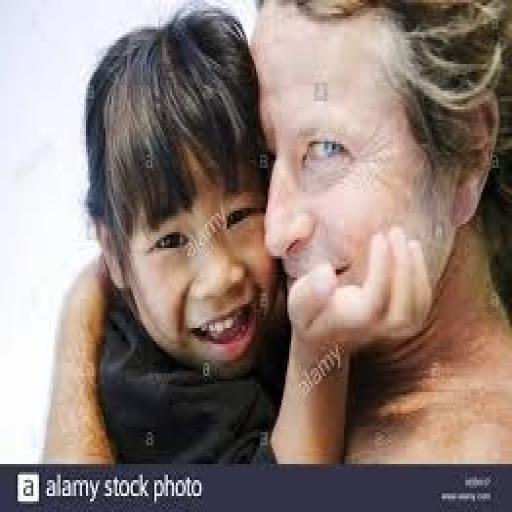hugging: (248, 0, 510, 467), (41, 0, 287, 467)
